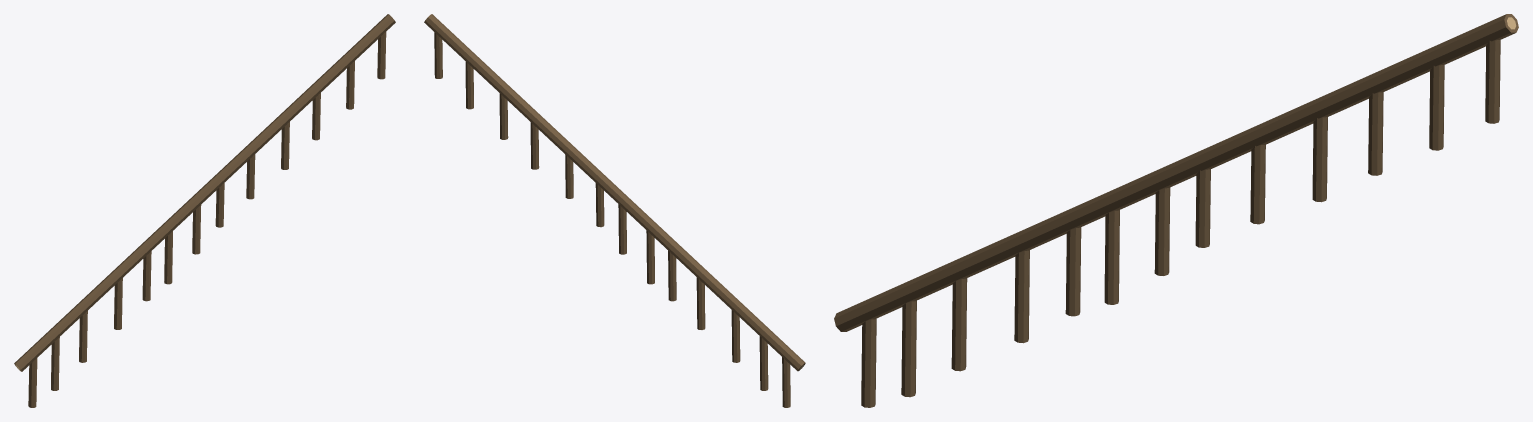
File: rpgpp_ag_wall_platform_stairs_01a_4m_handrail_01.fbx
3 views of the same model, side by side, from view 1: azimuth 30°, elevation 25°; view 2: azimuth 150°, elevation 25°; view 3: azimuth 330°, elevation 25° (orthographic). The views are drawn at different scales.
Visible parts, largest first — view 1: rpgpp_ag_wall_platform_stairs_01a_4m_handrail_01; view 2: rpgpp_ag_wall_platform_stairs_01a_4m_handrail_01; view 3: rpgpp_ag_wall_platform_stairs_01a_4m_handrail_01.
Part boxes in pixels (x1,y1,x2,y2): rpgpp_ag_wall_platform_stairs_01a_4m_handrail_01: (14,14,395,407); rpgpp_ag_wall_platform_stairs_01a_4m_handrail_01: (424,14,805,407); rpgpp_ag_wall_platform_stairs_01a_4m_handrail_01: (834,14,1518,407).
Bounding box in the file's own units: 6.03 × 4.63 × 0.166.
